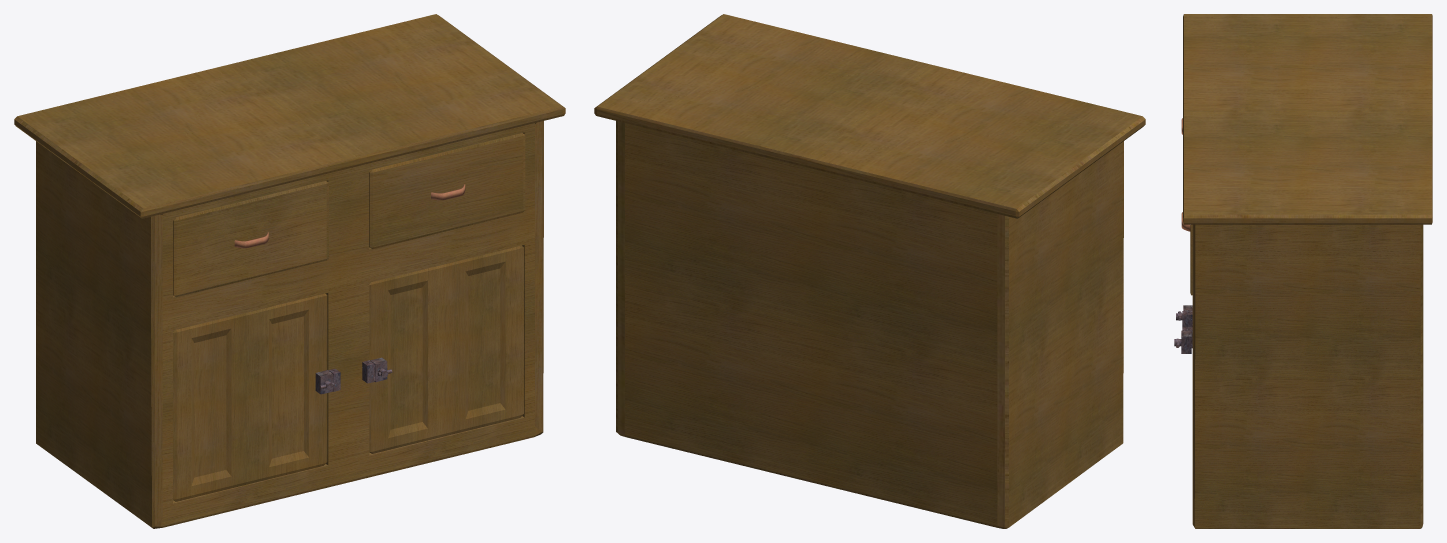
The model's file is tv_cabinet.glb.
3 views of the same model, side by side, from view 1: azimuth 30°, elevation 25°; view 2: azimuth 150°, elevation 25°; view 3: azimuth 270°, elevation 25° (orthographic).
Parts seen in each view (by area): view 1: Object_10; view 2: Object_10; view 3: Object_10.
Part boxes in pixels (bbox=[...]): Object_10: bbox=[14, 14, 565, 528]; Object_10: bbox=[594, 14, 1145, 528]; Object_10: bbox=[1174, 14, 1432, 528].
Size of the model in its own units: 0.9 by 0.6645 by 0.4837.
3 materials, 3 textured.
